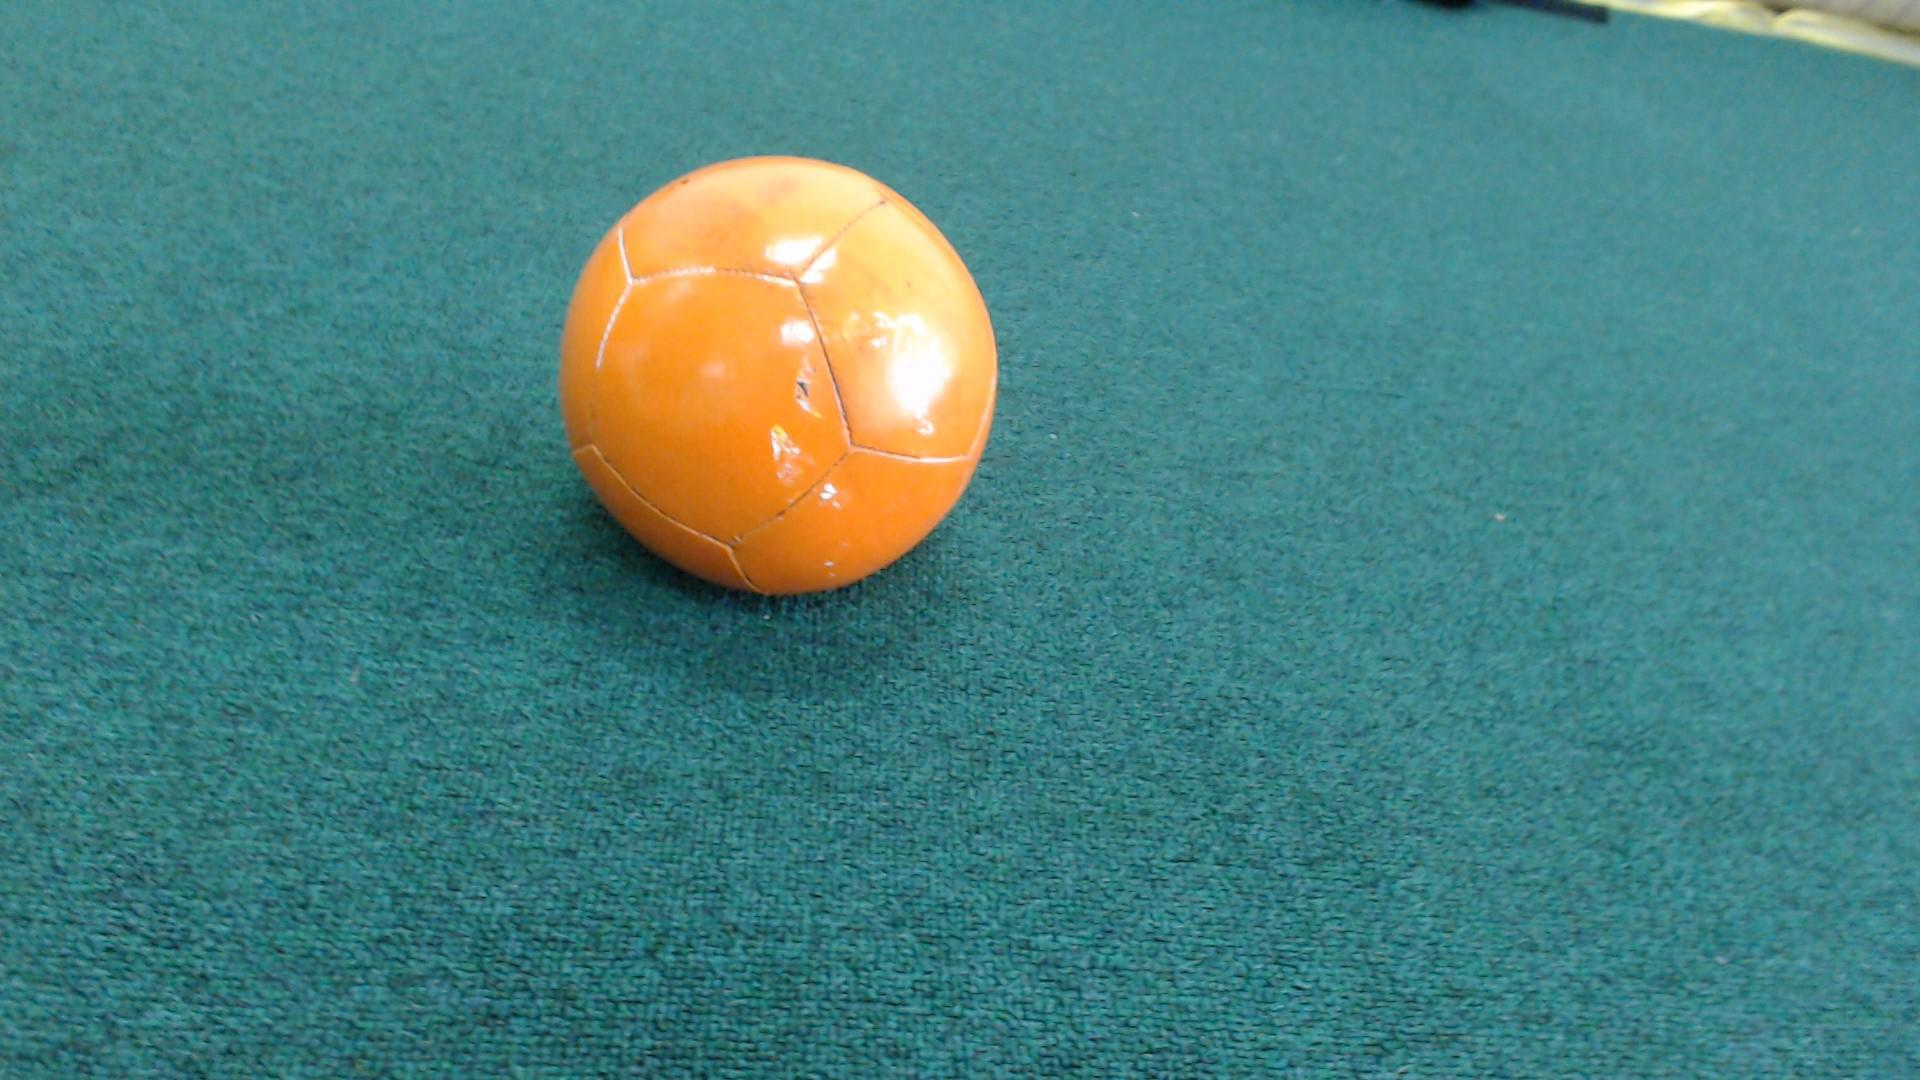bola: (534, 136, 1021, 633)
